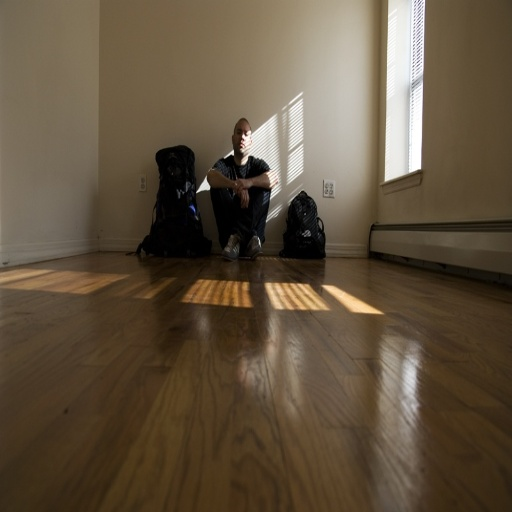hand: (233, 178, 250, 193), (238, 190, 251, 207)
